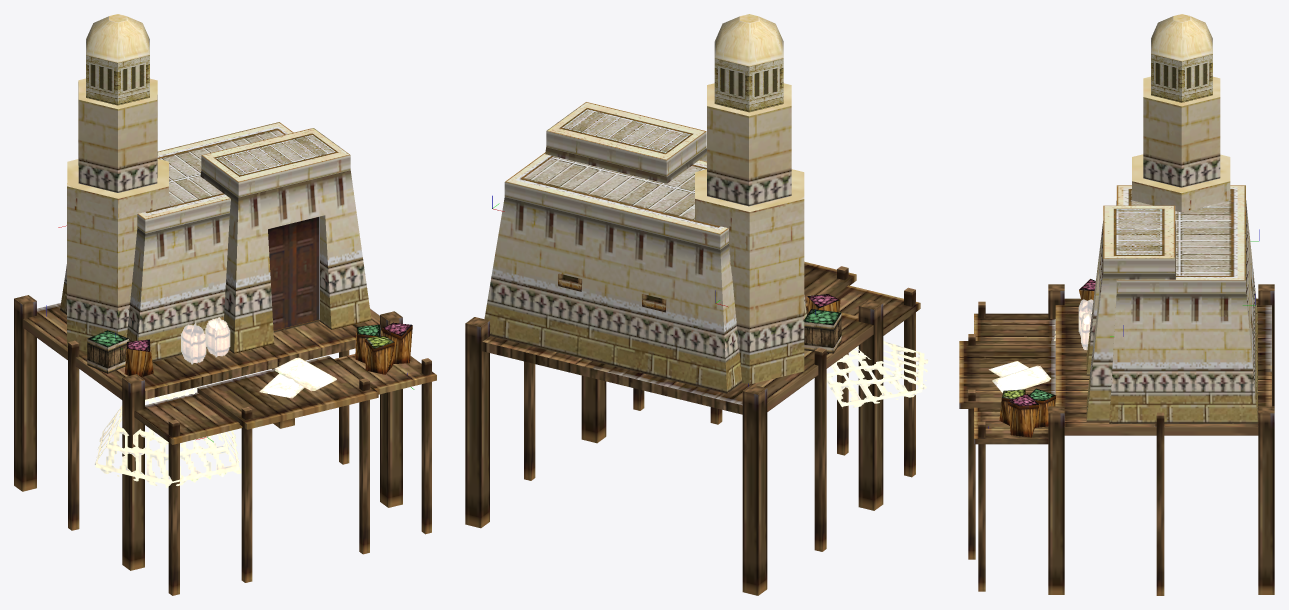
The model's file is age3.glb.
3 renders of one model, left to right at view 1: azimuth 30°, elevation 25°; view 2: azimuth 150°, elevation 25°; view 3: azimuth 270°, elevation 25°, orthographic. The views are drawn at different scales.
Parts seen in each view (by area): view 1: building e tradedock age4Model; view 2: building e tradedock age4Model; view 3: building e tradedock age4Model.
Boxes of the visible parts, <box> form: building e tradedock age4Model: <box>14,14,436,595</box>; building e tradedock age4Model: <box>465,14,928,595</box>; building e tradedock age4Model: <box>959,14,1274,595</box>.
Size of the model in its own units: 6.72 by 10.02 by 6.03.
Materials: 8 (7 with a texture image).
